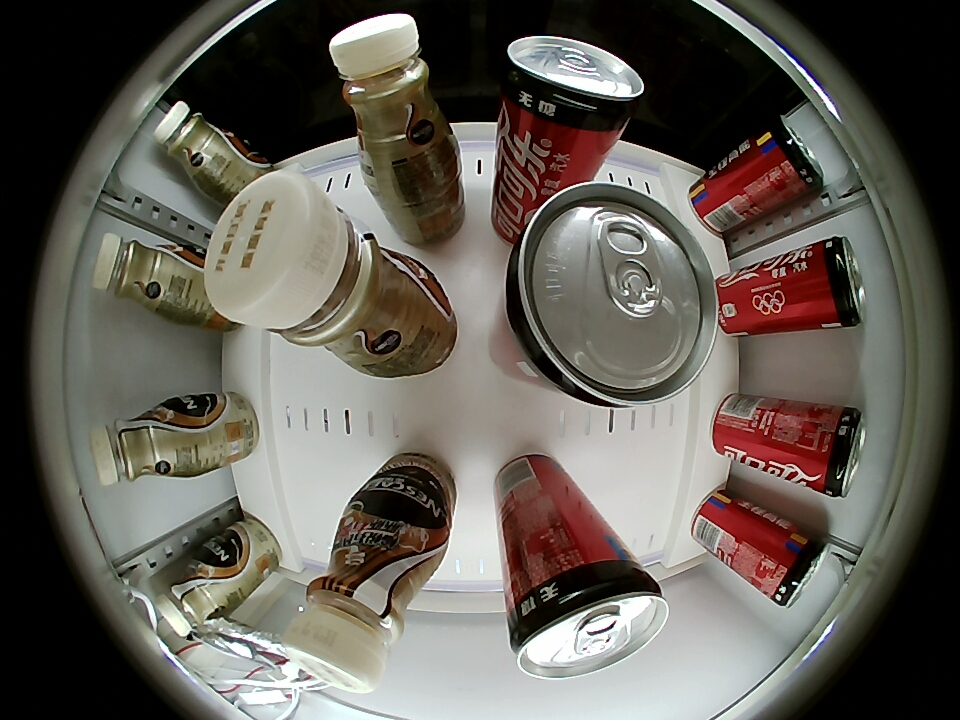kafei: (201, 170, 430, 375), (285, 520, 445, 694), (330, 13, 456, 157), (90, 399, 192, 484), (92, 233, 193, 315), (152, 101, 247, 188), (158, 554, 236, 637)
lingdukele: (504, 180, 720, 409), (508, 560, 669, 679), (502, 37, 644, 136), (801, 236, 866, 330), (800, 406, 865, 499), (753, 116, 823, 200), (758, 529, 828, 608)
